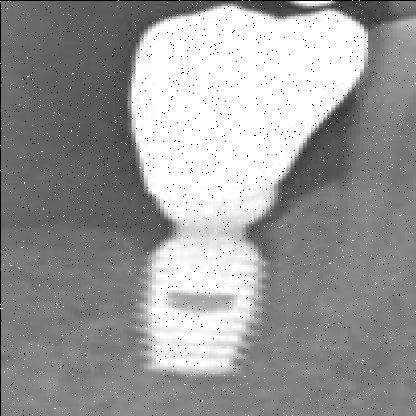Bicon: (129, 217, 265, 373)
